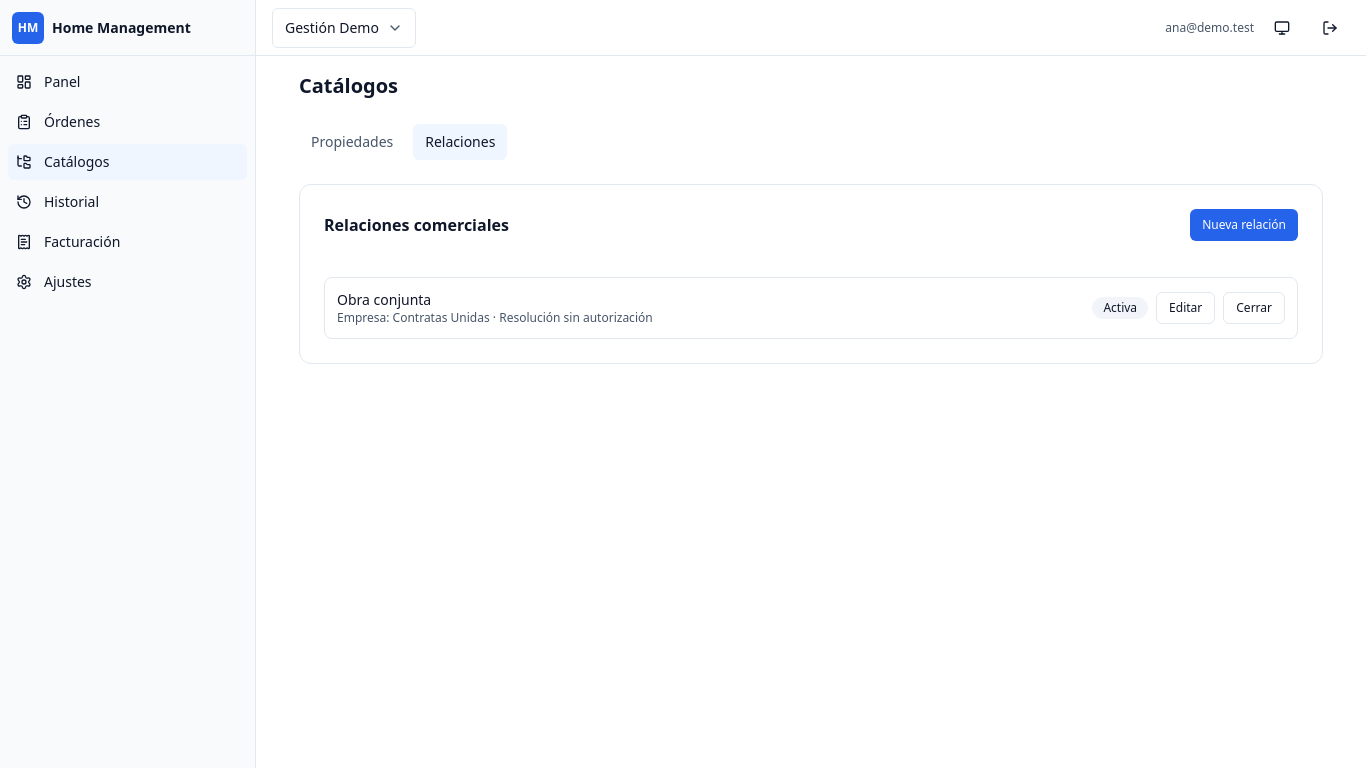
Scenario: commercial relations (spec F3 §2.1/§2.4, AC-F3.1/AC-F3.9) › closes a relation with confirmation: PATCH {ended:true} → «Cerrada» (AC-F3.9)
Click the button with aria-label "Cerrar relación: Obra conjunta".
click(1254, 308)  # box [1223,292,1285,324]
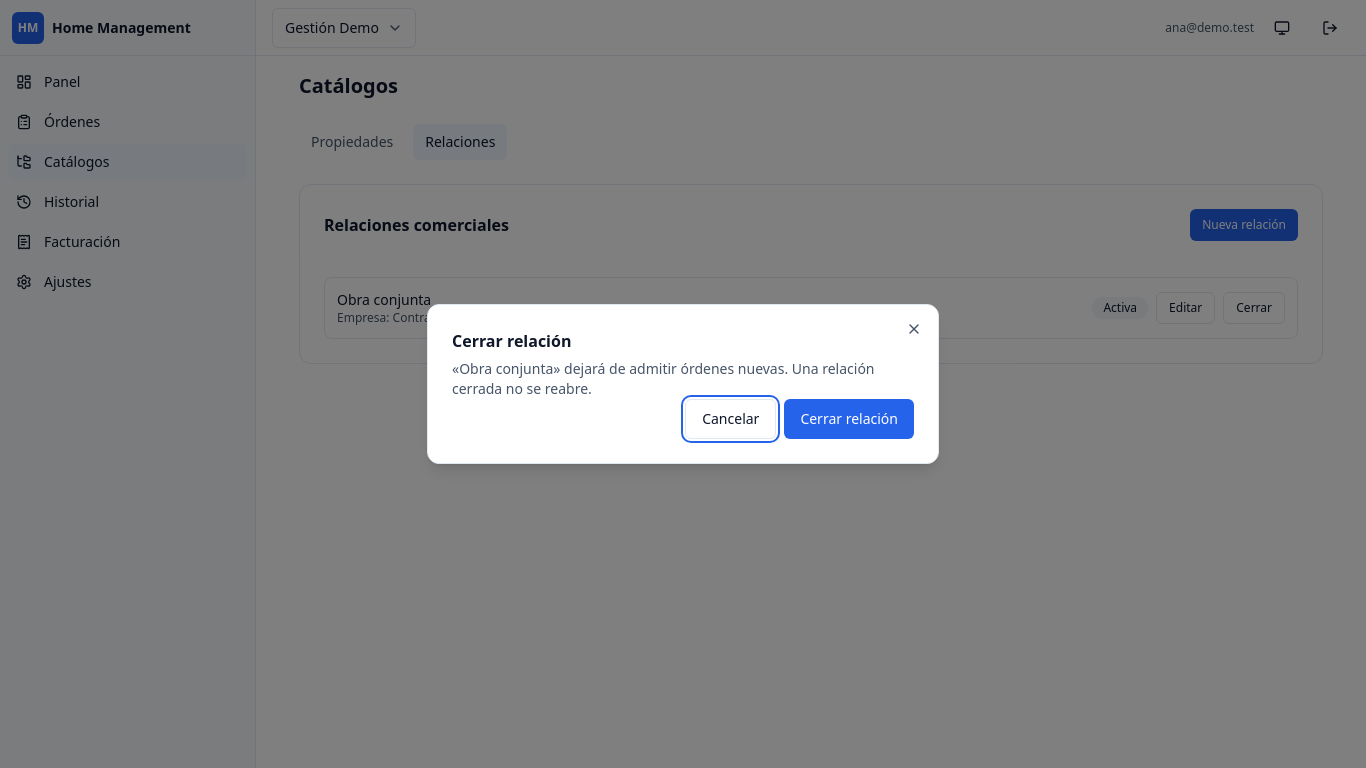
Click the button "Cerrar relación".
click(849, 419)  # box [784,399,914,439]
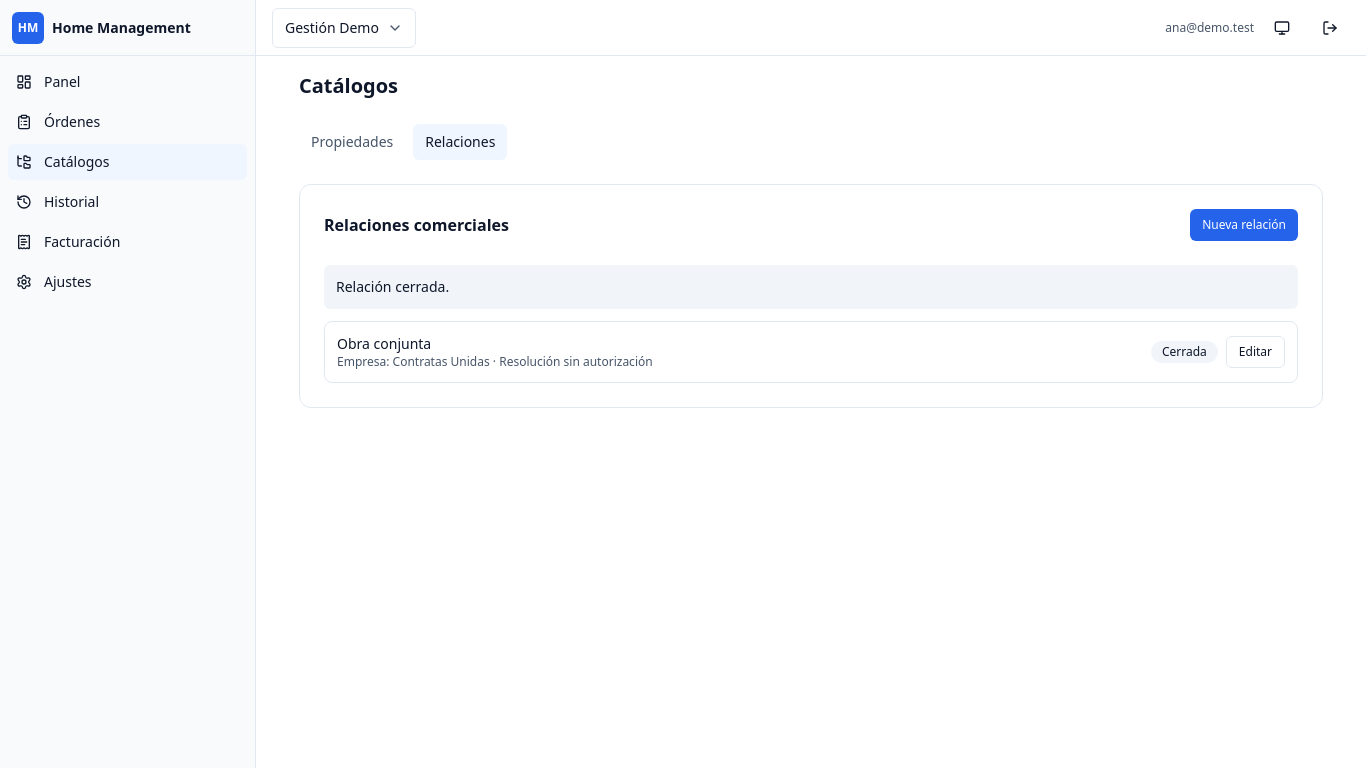
Check: the text "Relación cerrada." is shown, box [324,265,1298,309]
